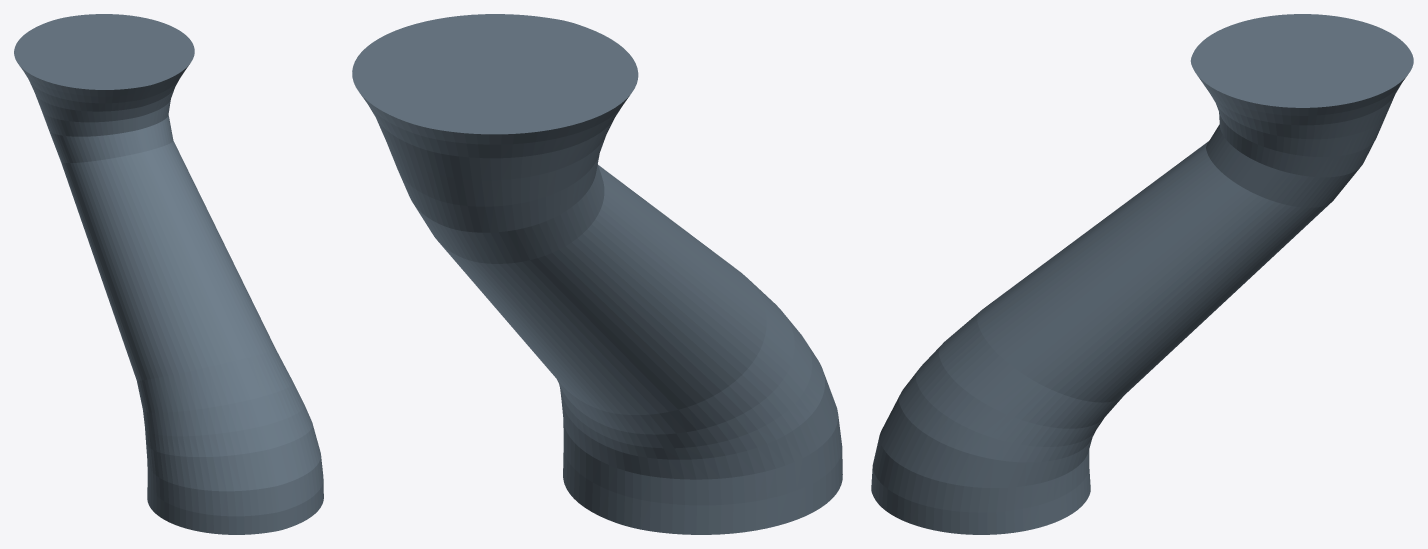
3 renders of one model, left to right at view 1: azimuth 30°, elevation 25°; view 2: azimuth 150°, elevation 25°; view 3: azimuth 270°, elevation 25°, orthographic. The views are drawn at different scales.
Parts seen in each view (by area): view 1: MF1509_4_0; view 2: MF1509_4_0; view 3: MF1509_4_0.
Boxes of the visible parts, x1=… form: MF1509_4_0: x1=14, y1=14, x2=323, y2=534; MF1509_4_0: x1=352, y1=14, x2=842, y2=534; MF1509_4_0: x1=871, y1=14, x2=1413, y2=534.
Bounding box in the file's own units: 101 × 246 × 215.
